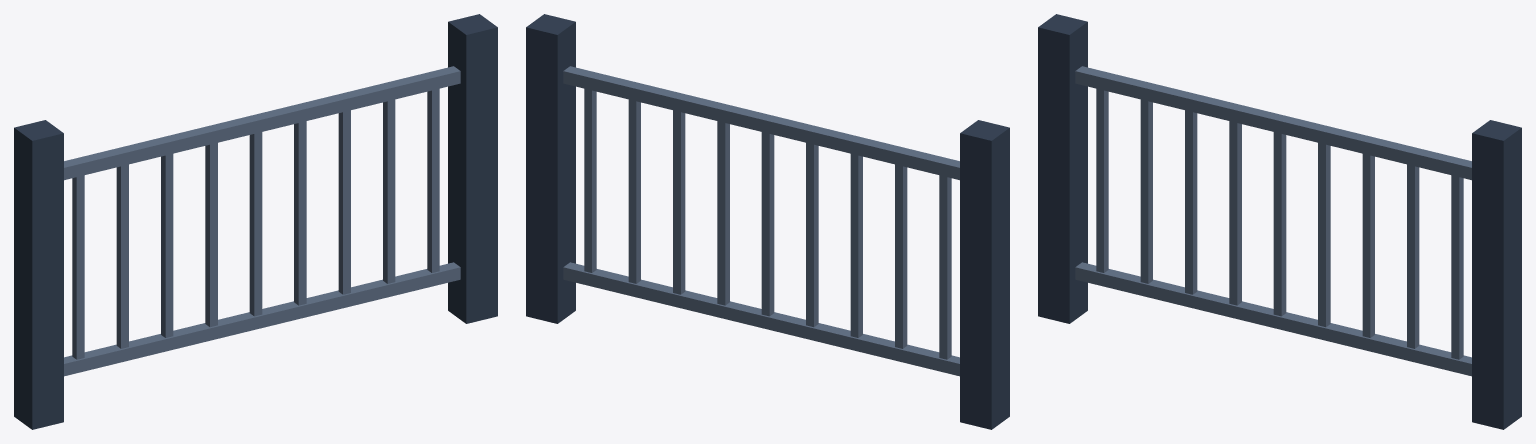
The model's file is gate.glb.
The picture shows the model from 3 angles, left to right: view 1: azimuth 30°, elevation 25°; view 2: azimuth 150°, elevation 25°; view 3: azimuth 330°, elevation 25°; orthographic projection.
Bounding box in the file's own units: 4.72 × 2.8 × 0.32.
